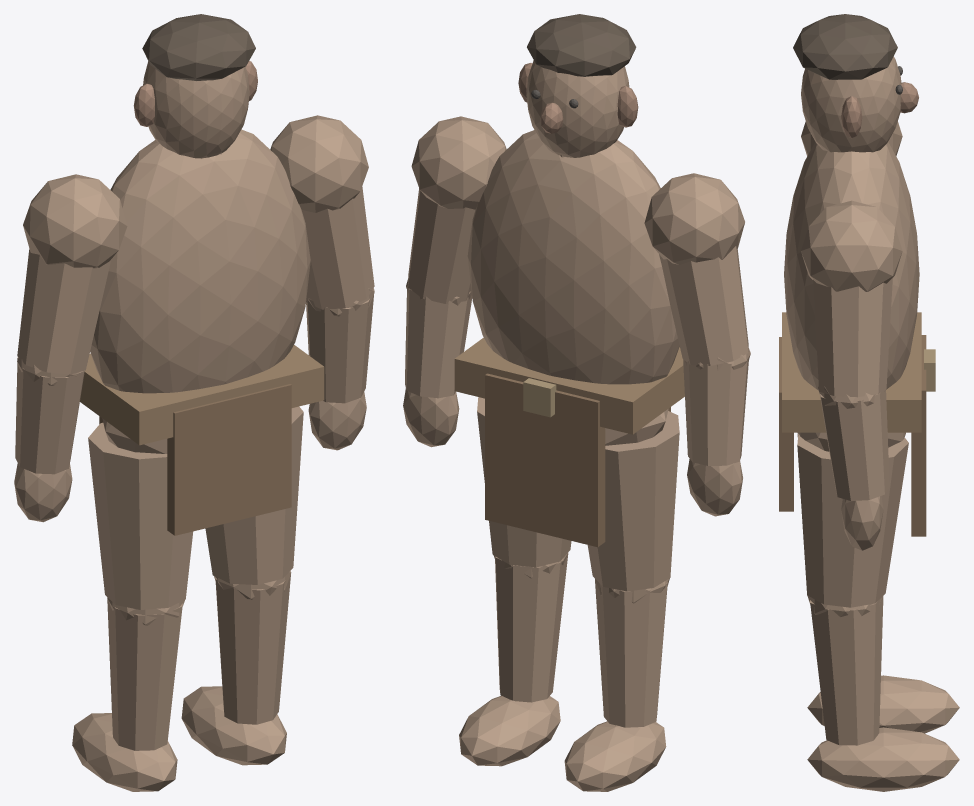
The model's file is black_village_base_character.glb.
3 views of the same model, side by side, from view 1: azimuth 30°, elevation 25°; view 2: azimuth 150°, elevation 25°; view 3: azimuth 270°, elevation 25° (orthographic). The views are drawn at different scales.
Visible parts, largest first — view 1: Torso, LoinclothBack, LeftThigh, LeftShin, RightShin, LeftUpperArm, LoinclothBelt, LeftShoulder, Head, RightShoulder, RightThigh, RightUpperArm (+11 smaller); view 2: Torso, LoinclothFront, LeftThigh, RightShin, LeftShin, LeftUpperArm, LeftShoulder, LoinclothBelt, Head, RightShoulder, LeftForearm, RightUpperArm (+10 smaller); view 3: Torso, RightThigh, RightShin, RightUpperArm, RightShoulder, RightFoot, Head, RightForearm, LoinclothBelt, HairCap, LeftFoot, LoinclothFront (+9 smaller).
Boxes of the visible parts, left/top/right/bottom form: Torso: left=90, top=129, right=310, bottom=393; LoinclothBack: left=167, top=384, right=291, bottom=535; LeftThigh: left=88, top=422, right=193, bottom=609; LeftShin: left=107, top=599, right=182, bottom=750; RightShin: left=215, top=572, right=291, bottom=724; LeftUpperArm: left=17, top=249, right=111, bottom=374; LoinclothBelt: left=80, top=345, right=324, bottom=445; LeftShoulder: left=23, top=174, right=127, bottom=268; Head: left=143, top=61, right=249, bottom=158; RightShoulder: left=270, top=115, right=368, bottom=212; RightThigh: left=205, top=406, right=303, bottom=584; RightUpperArm: left=301, top=187, right=374, bottom=309; Torso: left=467, top=130, right=679, bottom=384; LoinclothFront: left=485, top=373, right=605, bottom=547; LeftThigh: left=587, top=411, right=679, bottom=591; RightShin: left=495, top=553, right=568, bottom=702; LeftShin: left=595, top=579, right=667, bottom=727; LeftUpperArm: left=659, top=246, right=748, bottom=365; LeftShoulder: left=644, top=173, right=744, bottom=264; LoinclothBelt: left=454, top=337, right=684, bottom=434; Head: left=526, top=60, right=629, bottom=157; RightShoulder: left=411, top=116, right=506, bottom=209; LeftForearm: left=683, top=358, right=748, bottom=465; RightUpperArm: left=408, top=188, right=475, bottom=303; Torso: left=784, top=142, right=919, bottom=389; RightThigh: left=797, top=433, right=908, bottom=607; RightShin: left=810, top=597, right=883, bottom=745; RightUpperArm: left=813, top=278, right=892, bottom=397; RightShoulder: left=801, top=200, right=902, bottom=291; RightFoot: left=807, top=727, right=959, bottom=791; Head: left=801, top=56, right=901, bottom=152; RightForearm: left=820, top=389, right=889, bottom=500; LoinclothBelt: left=782, top=312, right=921, bottom=432; HairCap: left=793, top=14, right=897, bottom=79; LeftFoot: left=807, top=675, right=959, bottom=733; LoinclothFront: left=911, top=335, right=926, bottom=536.
Bounding box in the file's own units: 0.926 × 1.92 × 0.4265.
